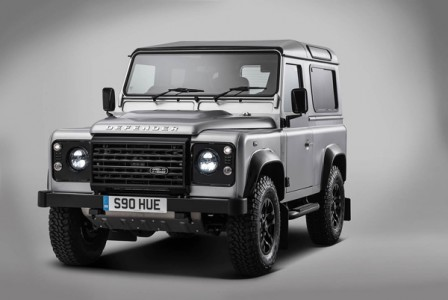pickup: (39, 36, 354, 278)
